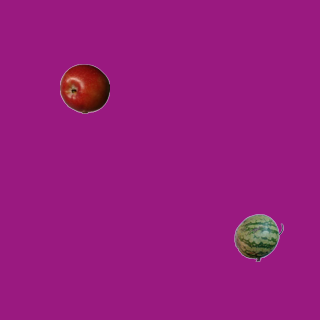Apple Braeburn: (59, 63, 109, 113)
Watermelon: (233, 212, 283, 262)
